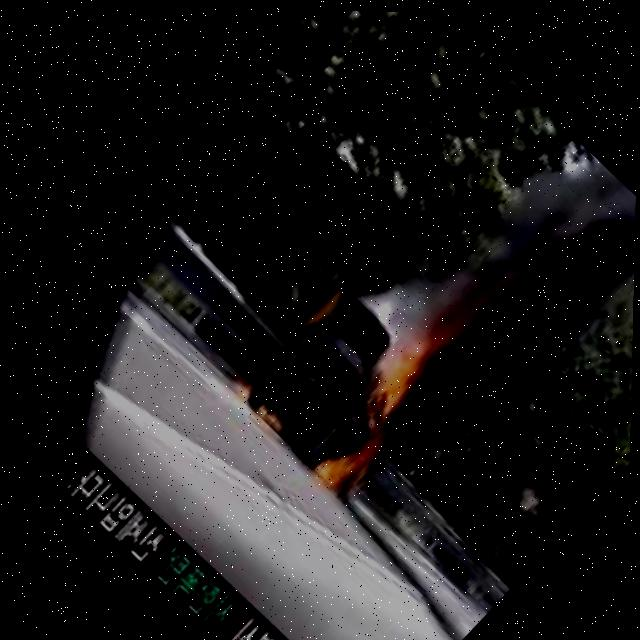Fire: (293, 283, 496, 498)
Smoke: (435, 126, 638, 383)
